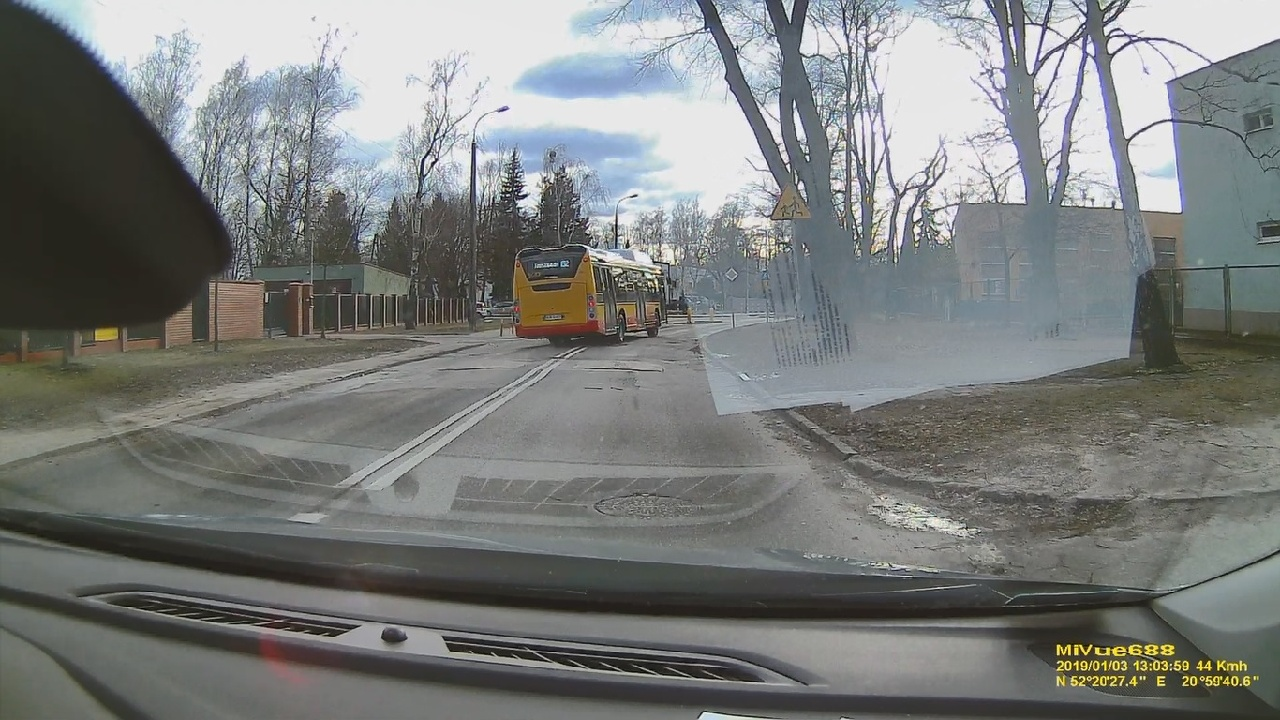A17: (767, 181, 813, 224)
